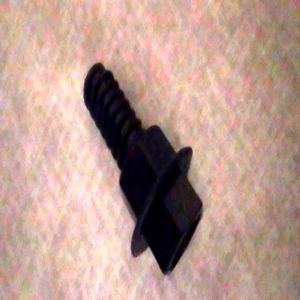parafuso: (79, 59, 204, 274)
